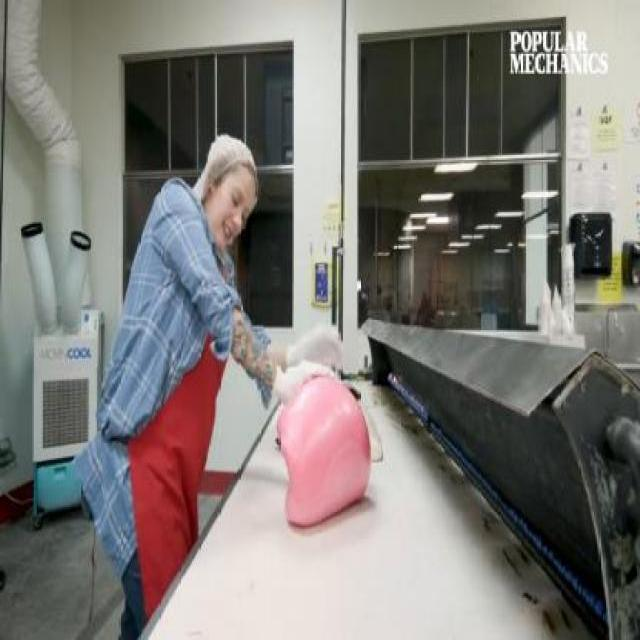gloved_hand: (272, 360, 348, 413), (270, 322, 349, 364)
